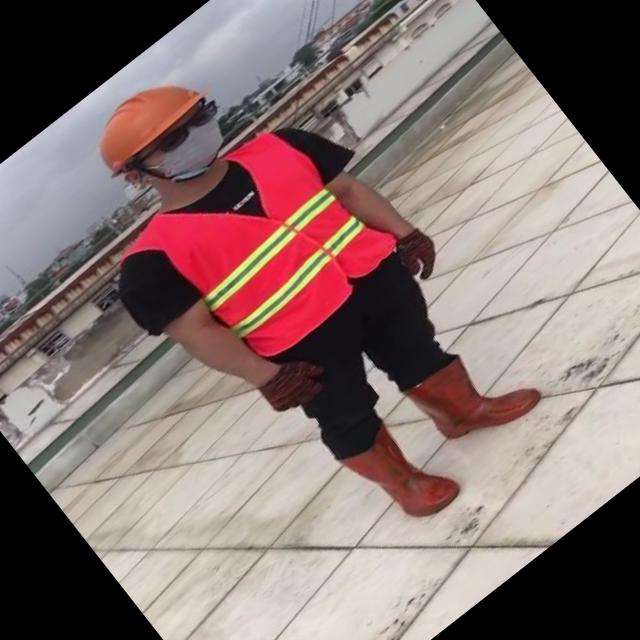hard_hat: (71, 51, 216, 184)
safety_vest: (132, 108, 406, 378)
vehicle: (13, 0, 594, 606)
work_boots: (397, 322, 546, 468), (339, 412, 464, 541)
